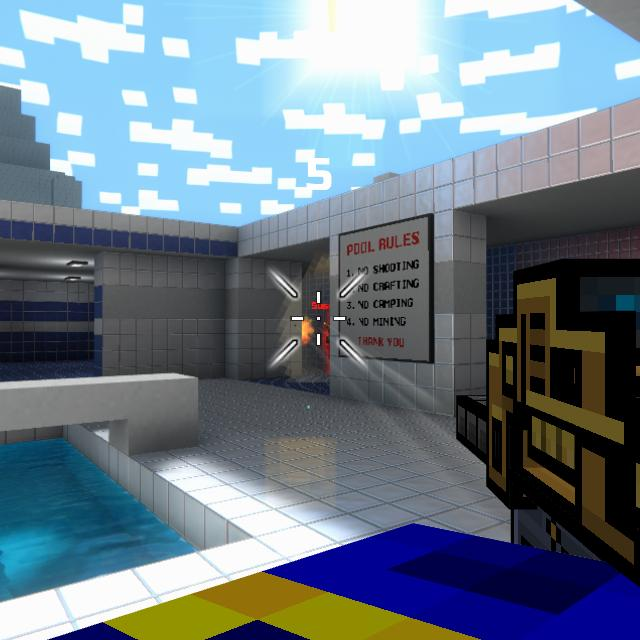Enemy: (327, 319, 332, 355)
